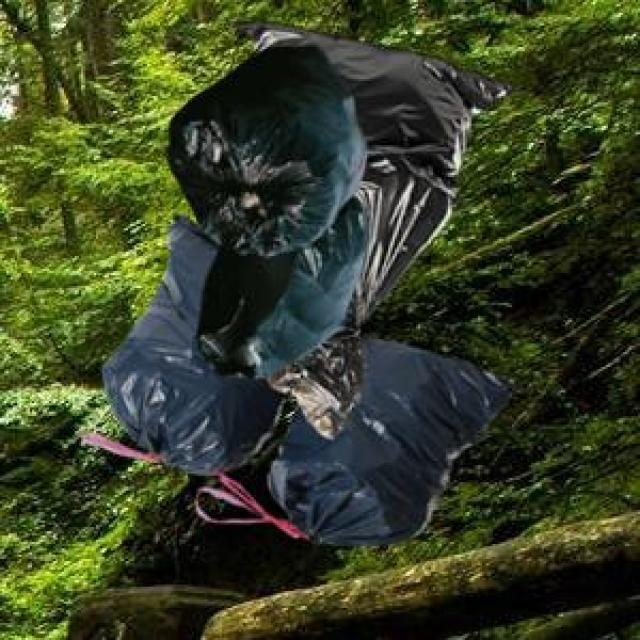Trashbag: (268, 344, 513, 549), (163, 39, 371, 258), (192, 220, 378, 380)
